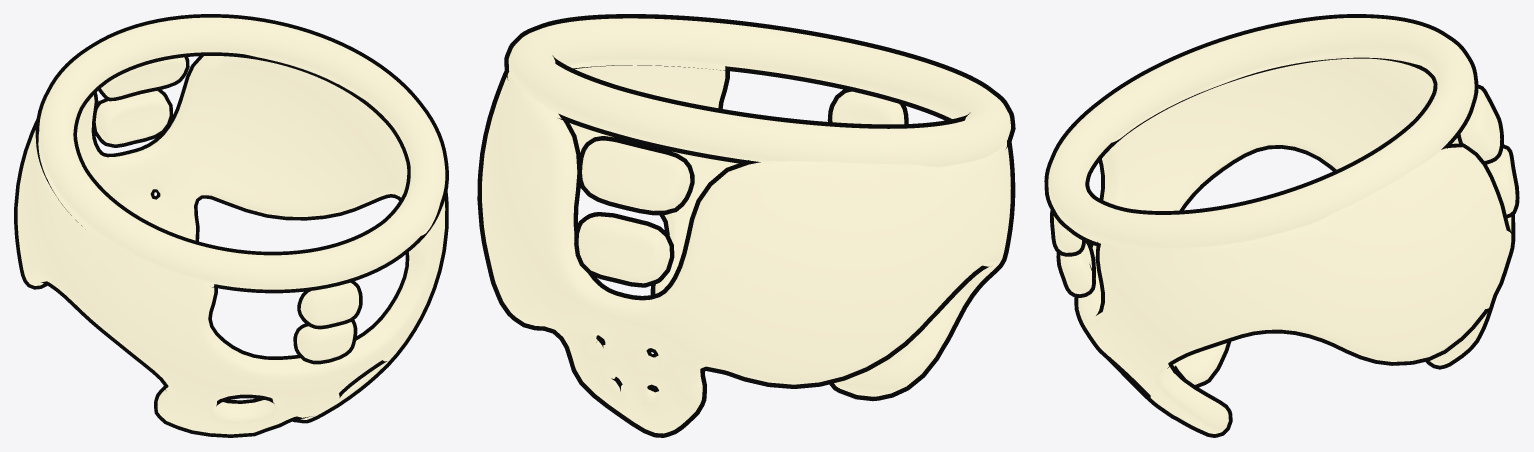
Rendered from BOTTOMS.BIOLOGY.SKELETON.glb.
3 views of the same model, side by side, from view 1: azimuth 30°, elevation 25°; view 2: azimuth 150°, elevation 25°; view 3: azimuth 270°, elevation 25° (orthographic). The views are drawn at different scales.
Visible parts, largest first — view 1: BOTTOMS.BIOLOGY.SKELETON; view 2: BOTTOMS.BIOLOGY.SKELETON; view 3: BOTTOMS.BIOLOGY.SKELETON.
Boxes of the visible parts, x1,y1,x2,y2 form: BOTTOMS.BIOLOGY.SKELETON: (14, 14, 448, 437); BOTTOMS.BIOLOGY.SKELETON: (477, 14, 1015, 437); BOTTOMS.BIOLOGY.SKELETON: (1044, 14, 1519, 437).
Bounding box in the file's own units: 1.2 × 0.9638 × 1.22.
